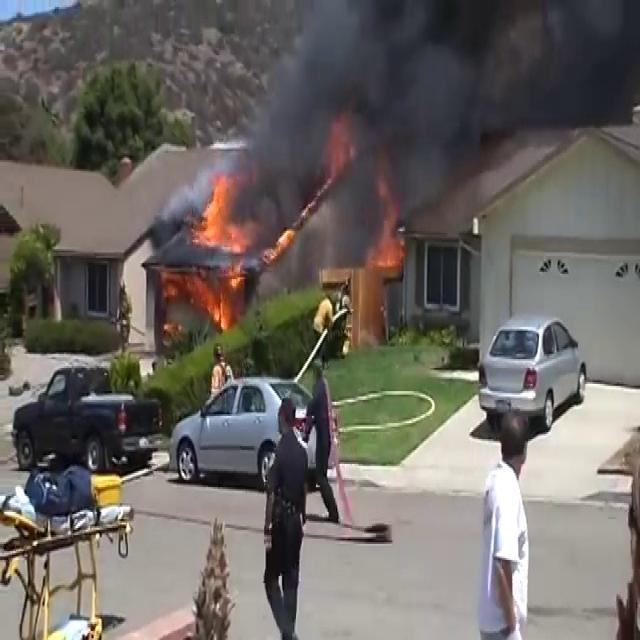Fire: (193, 175, 251, 332)
Smoke: (227, 0, 640, 229)
